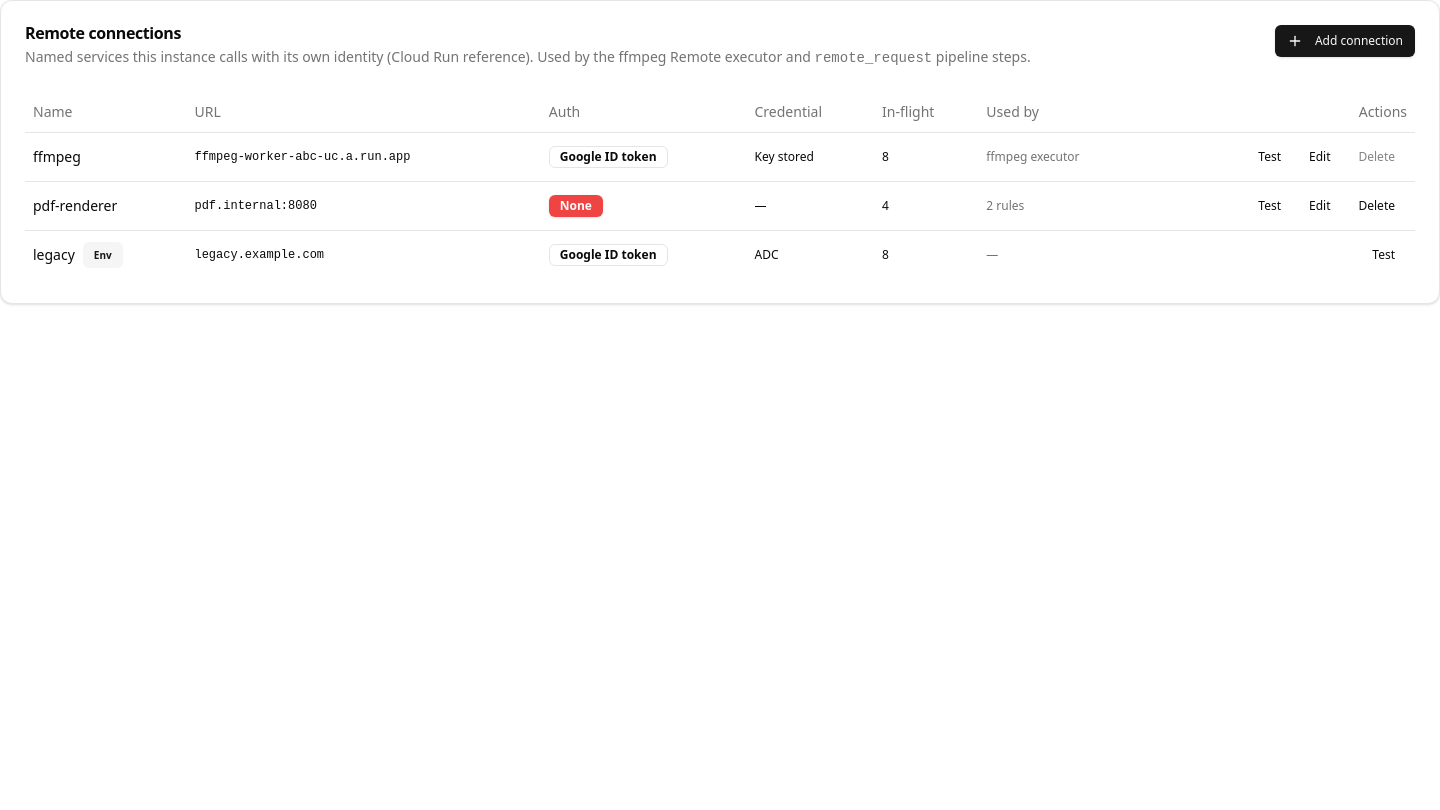
Scenario: RemoteConnectionsSettings › Test connection sends the draft and renders the result, or the error
This screenshot has width=1440, height=810.
Click the button "Edit" in the row of "ffmpeg-worker-abc-uc.a.run.app" at (1320, 156), box [1297,140,1342,172]
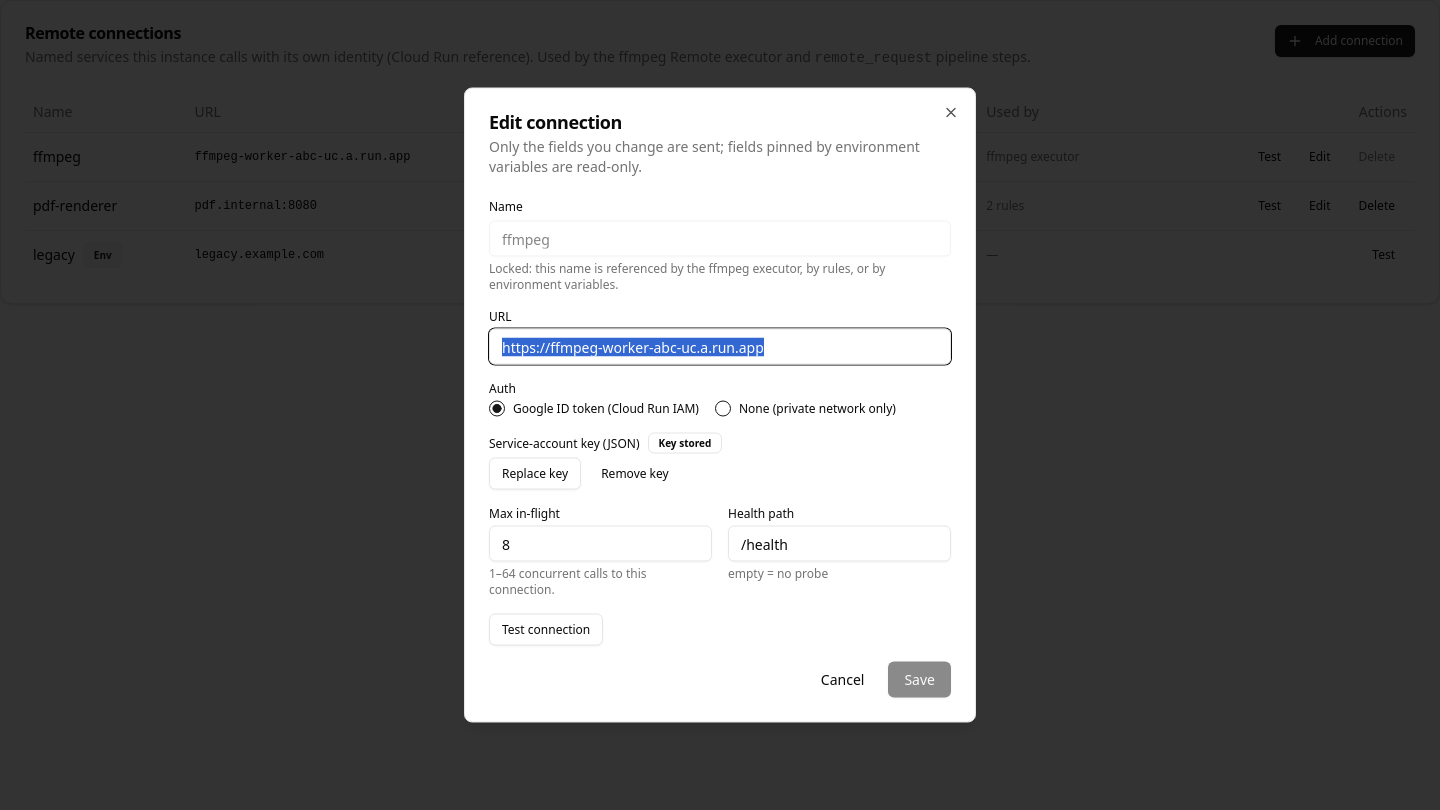
Click the button "Test connection" at (546, 630), box [489,614,603,646]
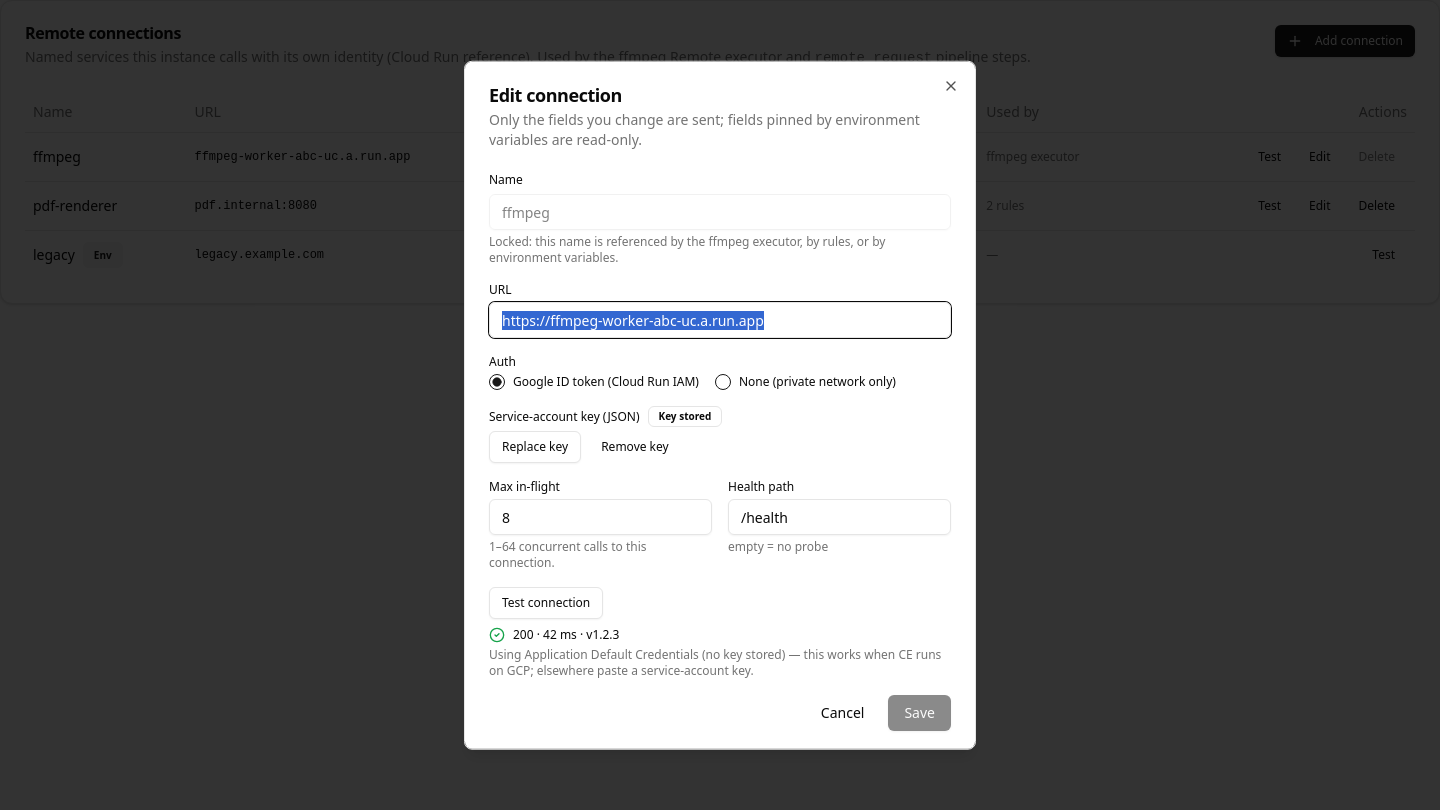
expect the text "200 · 42 ms · v1.2.3" is shown: met, box [513,627,620,643]
Click the button "Test connection" at (546, 603), box [489,587,603,619]
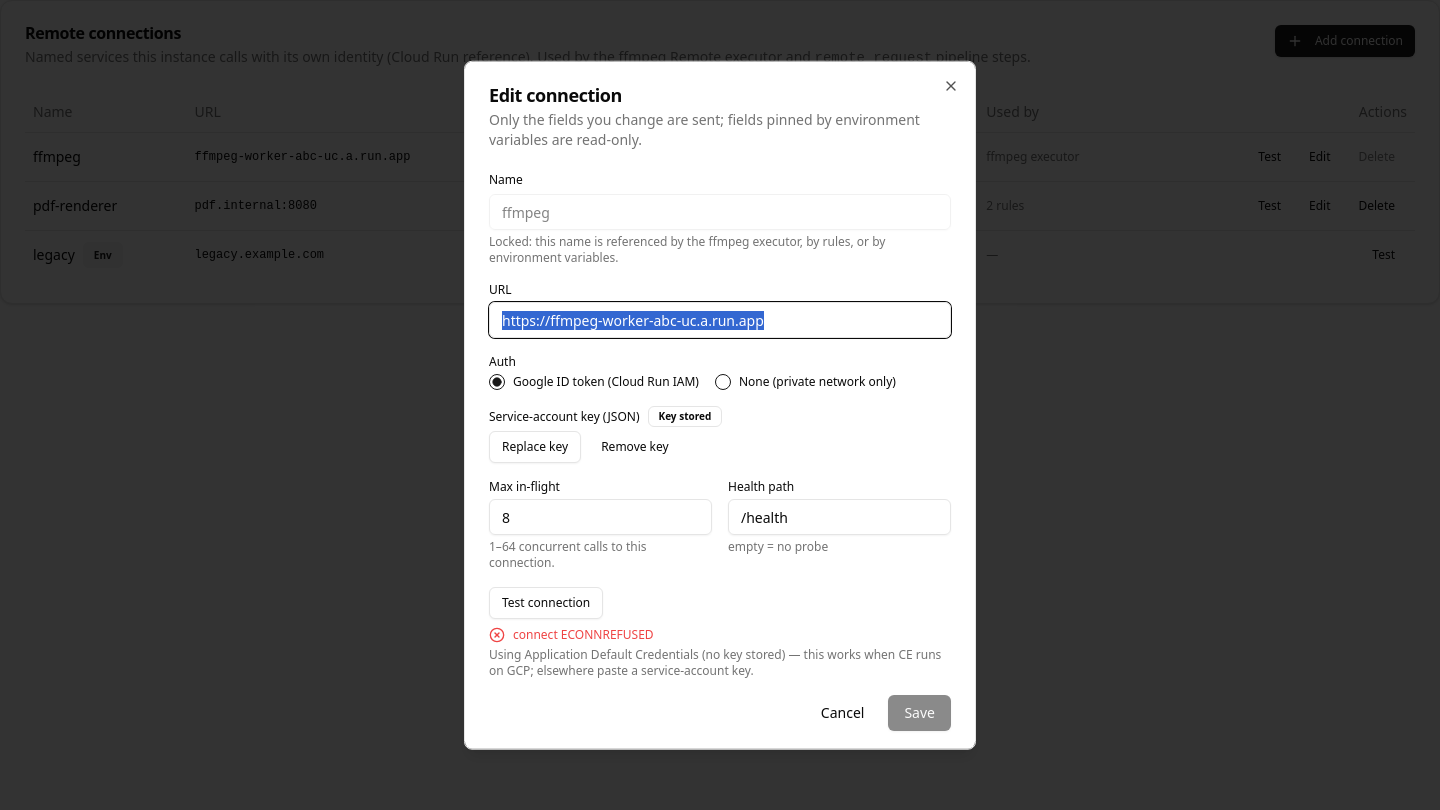
expect the text "connect ECONNREFUSED" is shown: met, box [513,627,654,643]
